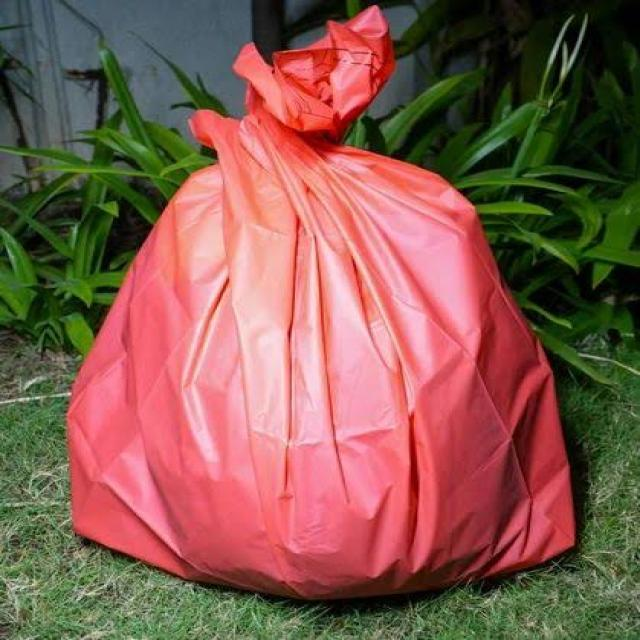plastic bag: (41, 6, 598, 603)
